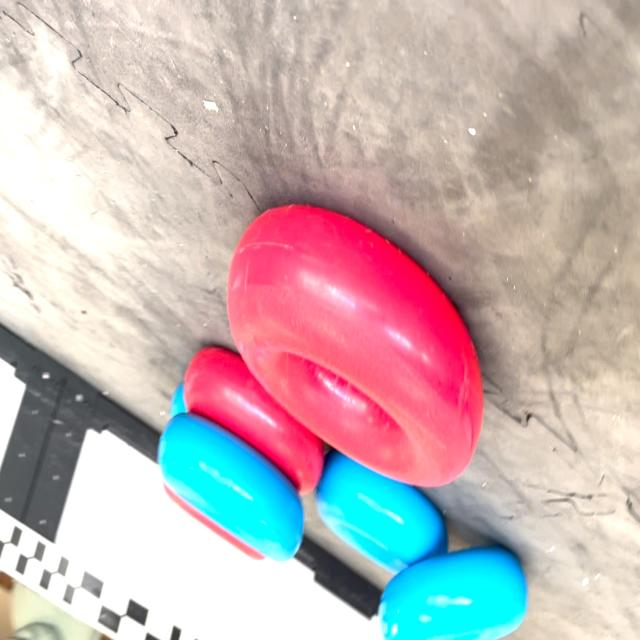Blue-Ring: (158, 413, 304, 560), (316, 451, 448, 573), (379, 547, 528, 640)
Red-Ring: (228, 204, 482, 487), (184, 347, 324, 493)
